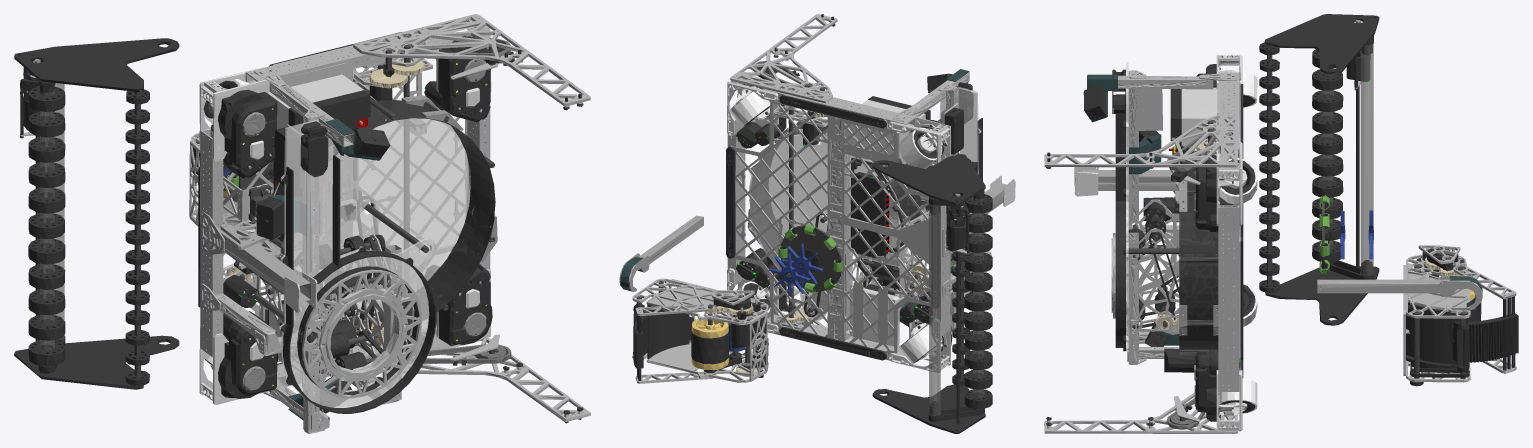
3 views of the same model, side by side, from view 1: azimuth 30°, elevation 25°; view 2: azimuth 150°, elevation 25°; view 3: azimuth 270°, elevation 25° (orthographic). The views are drawn at different scales.
Visible parts, largest first — view 1: main_mesh, c4_mesh, c1_mesh, c2_mesh; view 2: main_mesh, c4_mesh, c1_mesh, c2_mesh, c0_mesh, c3_mesh; view 3: main_mesh, c4_mesh, c1_mesh, c0_mesh, c3_mesh, c2_mesh.
Part boxes in pixels (x1,y1,x2,y2): main_mesh: (198,14,590,433); c4_mesh: (14,38,179,389); c1_mesh: (189,124,361,226); c2_mesh: (223,160,273,205); main_mesh: (726,14,1015,372); c4_mesh: (872,154,992,433); c1_mesh: (632,278,768,382); c2_mesh: (768,224,842,296); c0_mesh: (633,303,716,383); c3_mesh: (619,215,703,291); main_mesh: (1044,54,1257,433); c4_mesh: (1259,14,1379,325); c1_mesh: (1403,245,1481,386); c0_mesh: (1453,265,1518,373); c3_mesh: (1317,275,1482,310); c2_mesh: (1319,195,1373,273).
Bounding box in the file's own units: 0.9392 × 0.7386 × 1.16.
